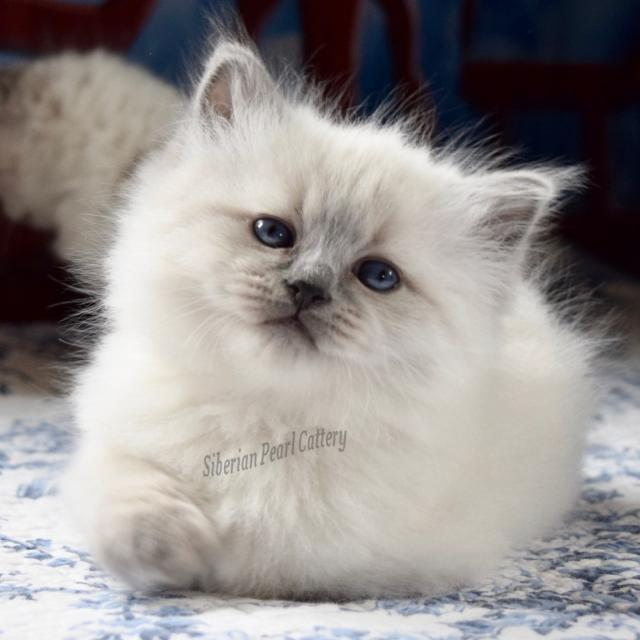Neva Masquerade: (65, 42, 599, 610)
